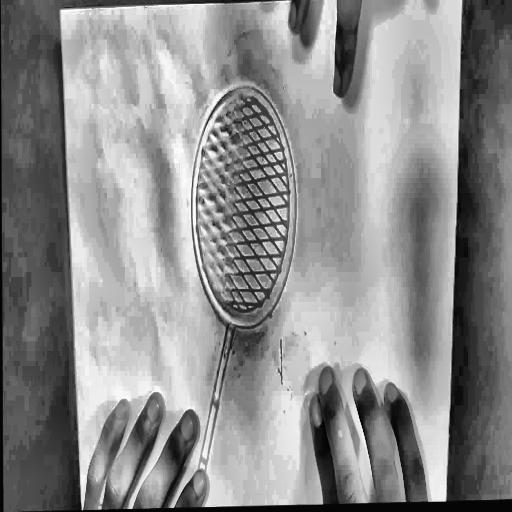badminton: (160, 69, 364, 511)
bottom_right: (442, 494, 449, 507)
top_left: (58, 4, 64, 16)
